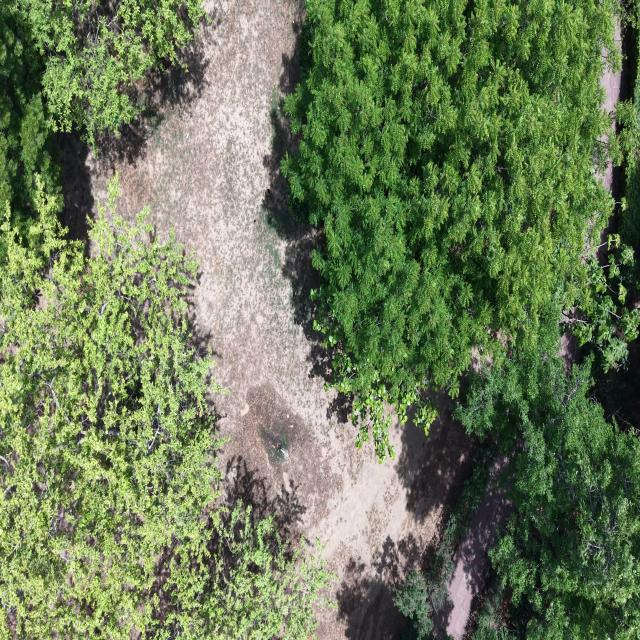DRY_AREA: (60, 0, 473, 639), (437, 459, 512, 639), (438, 484, 512, 639), (601, 21, 628, 113), (601, 69, 622, 113)
VEGETATION_TREE: (282, 0, 639, 639), (283, 0, 639, 638), (0, 0, 334, 639), (282, 0, 619, 459), (0, 179, 333, 639), (457, 96, 639, 639), (457, 305, 639, 639), (458, 307, 639, 639), (464, 316, 639, 638), (0, 0, 205, 231), (8, 0, 205, 143), (564, 3, 639, 372), (394, 451, 489, 639), (0, 3, 59, 231), (565, 234, 639, 372), (611, 5, 639, 254), (616, 40, 639, 249), (617, 85, 639, 247), (396, 573, 443, 639), (471, 579, 516, 639)
